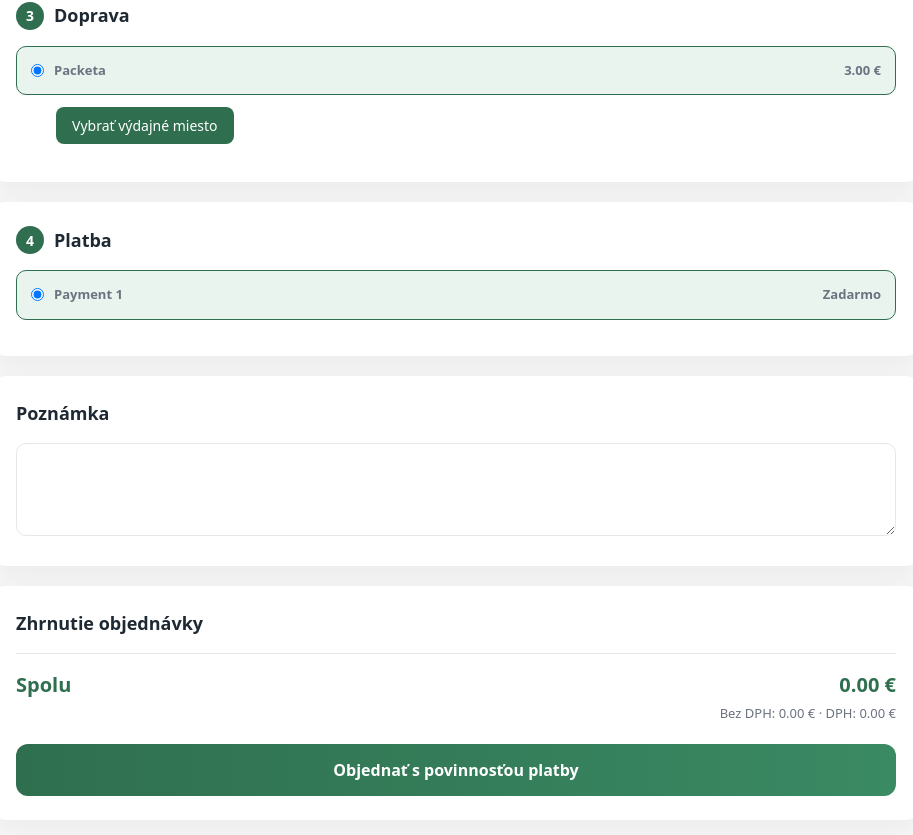
Test: Checkout Component › shows inline validation error and does not alert when pickup point missing
This screenshot has width=913, height=835.
(page scrolled)
// Try to submit without selecting pickup point
Click the button "Objednať s povinnosťou platby" at (456, 770), box [16, 744, 896, 796]
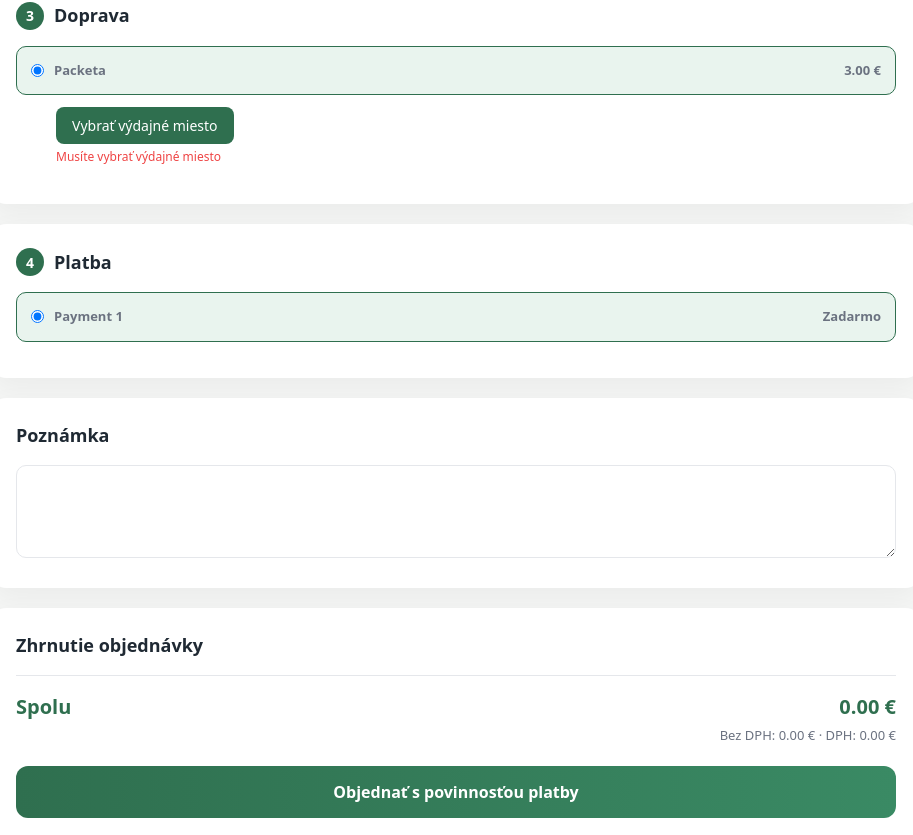
Expected: the text "Musíte vybrať výdajné miesto" is shown, [56, 148, 221, 165]
